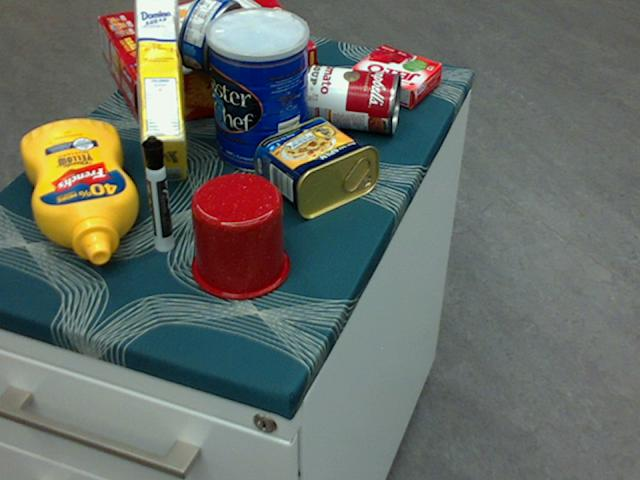cracker_box: (99, 0, 315, 130)
gelatin_box: (348, 46, 441, 107)
large_marker: (140, 136, 174, 250)
master_chef_can: (206, 6, 309, 173)
mug: (189, 171, 290, 298)
mustard_bottle: (20, 119, 137, 263)
potted_meat_can: (253, 114, 379, 219)
sugar_box: (136, 0, 187, 180)
tomato_soup_can: (301, 63, 402, 133)
tuna_fish_can: (177, 0, 244, 75)
